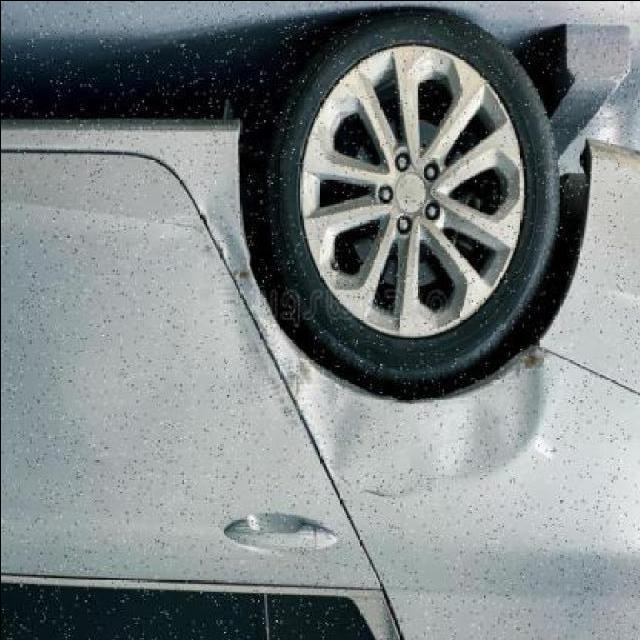doorouter-dent: (1, 244, 328, 578)
quaterpanel-dent: (323, 238, 640, 512)
